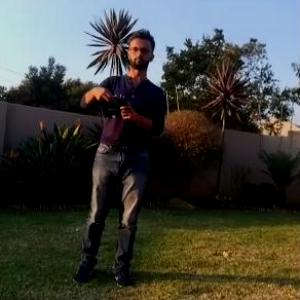follow: (67, 22, 168, 295)
